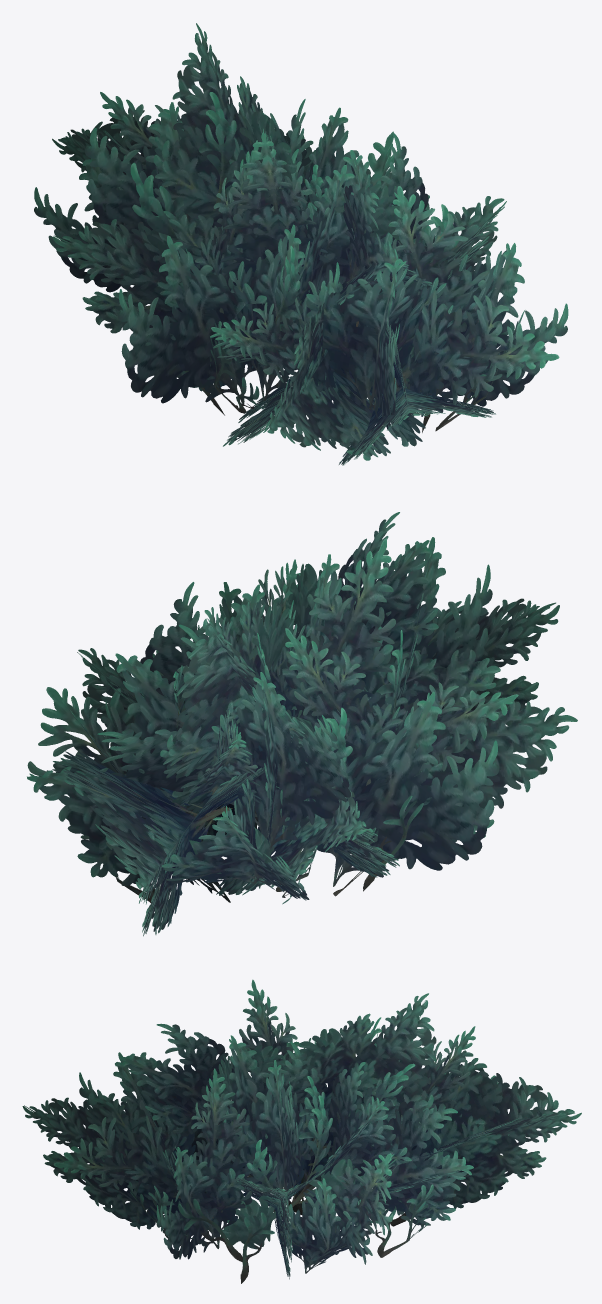
3 views of the same model, one above another, from view 1: azimuth 30°, elevation 25°; view 2: azimuth 150°, elevation 25°; view 3: azimuth 270°, elevation 25° (orthographic). The views are drawn at different scales.
Bounding box in the file's own units: 5.92 × 4.82 × 9.41.
1 material, 1 textured.
